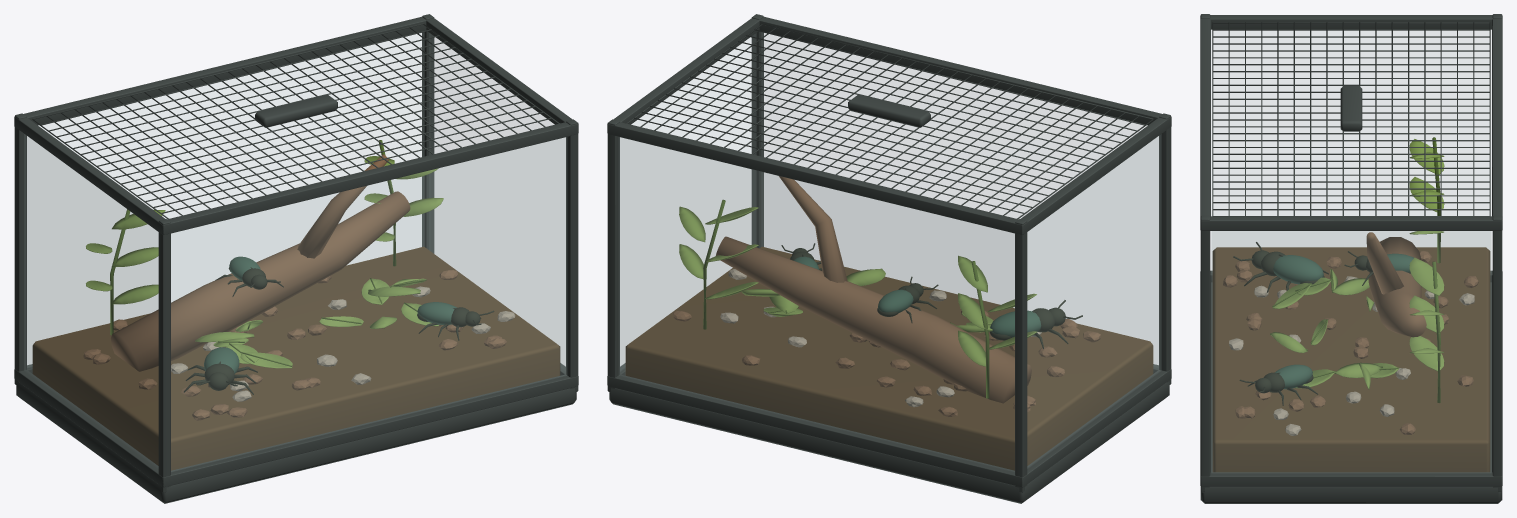
The model's file is RearingTerrarium.fbx.
3 views of the same model, side by side, from view 1: azimuth 30°, elevation 25°; view 2: azimuth 150°, elevation 25°; view 3: azimuth 270°, elevation 25° (orthographic).
Parts seen in each view (by area): view 1: RearingTerrarium_HabitatGlass, RearingTerrarium_HabitatFrame, RearingTerrarium_HabitatSoil, RearingTerrarium_NaturalBranch, RearingTerrarium_HabitatLeaves, RearingTerrarium_HabitatBeetleLegs, RearingTerrarium_HabitatBeetleShell, RearingTerrarium_MatrixWeathering, RearingTerrarium_HabitatLeafVeins; view 2: RearingTerrarium_HabitatGlass, RearingTerrarium_HabitatFrame, RearingTerrarium_HabitatSoil, RearingTerrarium_NaturalBranch, RearingTerrarium_HabitatLeaves, RearingTerrarium_HabitatBeetleLegs, RearingTerrarium_HabitatBeetleShell, RearingTerrarium_HabitatLeafVeins, RearingTerrarium_MatrixWeathering; view 3: RearingTerrarium_HabitatGlass, RearingTerrarium_HabitatFrame, RearingTerrarium_HabitatSoil, RearingTerrarium_NaturalBranch, RearingTerrarium_HabitatLeaves, RearingTerrarium_HabitatBeetleShell, RearingTerrarium_HabitatBeetleLegs, RearingTerrarium_MatrixWeathering, RearingTerrarium_HabitatLeafVeins.
Boxes of the visible parts, x1,y1,x2,y2 form: RearingTerrarium_HabitatGlass: (24,32,566,471); RearingTerrarium_HabitatFrame: (14,14,578,503); RearingTerrarium_HabitatSoil: (32,246,560,470); RearingTerrarium_NaturalBranch: (83,154,506,420); RearingTerrarium_HabitatLeaves: (86,156,443,368); RearingTerrarium_HabitatBeetleLegs: (184,267,494,394); RearingTerrarium_HabitatBeetleShell: (204,256,456,373); RearingTerrarium_MatrixWeathering: (150,286,515,401); RearingTerrarium_HabitatLeafVeins: (110,140,438,366); RearingTerrarium_HabitatGlass: (619,32,1161,471); RearingTerrarium_HabitatFrame: (607,14,1171,503); RearingTerrarium_HabitatSoil: (625,246,1153,470); RearingTerrarium_NaturalBranch: (673,176,1100,416); RearingTerrarium_HabitatLeaves: (679,206,1036,366); RearingTerrarium_HabitatBeetleLegs: (781,243,1082,348); RearingTerrarium_HabitatBeetleShell: (794,256,1041,337); RearingTerrarium_HabitatLeafVeins: (703,199,989,398); RearingTerrarium_MatrixWeathering: (720,269,1041,407); RearingTerrarium_HabitatGlass: (1211,30,1491,472); RearingTerrarium_HabitatFrame: (1200,14,1502,503); RearingTerrarium_HabitatSoil: (1212,247,1490,472); RearingTerrarium_NaturalBranch: (1223,232,1478,434); RearingTerrarium_HabitatLeaves: (1270,139,1444,389); RearingTerrarium_HabitatBeetleShell: (1273,253,1413,389); RearingTerrarium_HabitatBeetleLegs: (1233,242,1410,405); RearingTerrarium_MatrixWeathering: (1229,276,1474,435); RearingTerrarium_HabitatLeafVeins: (1270,137,1440,402).
Size of the model in its own units: 1 by 0.6781 by 0.6208.
